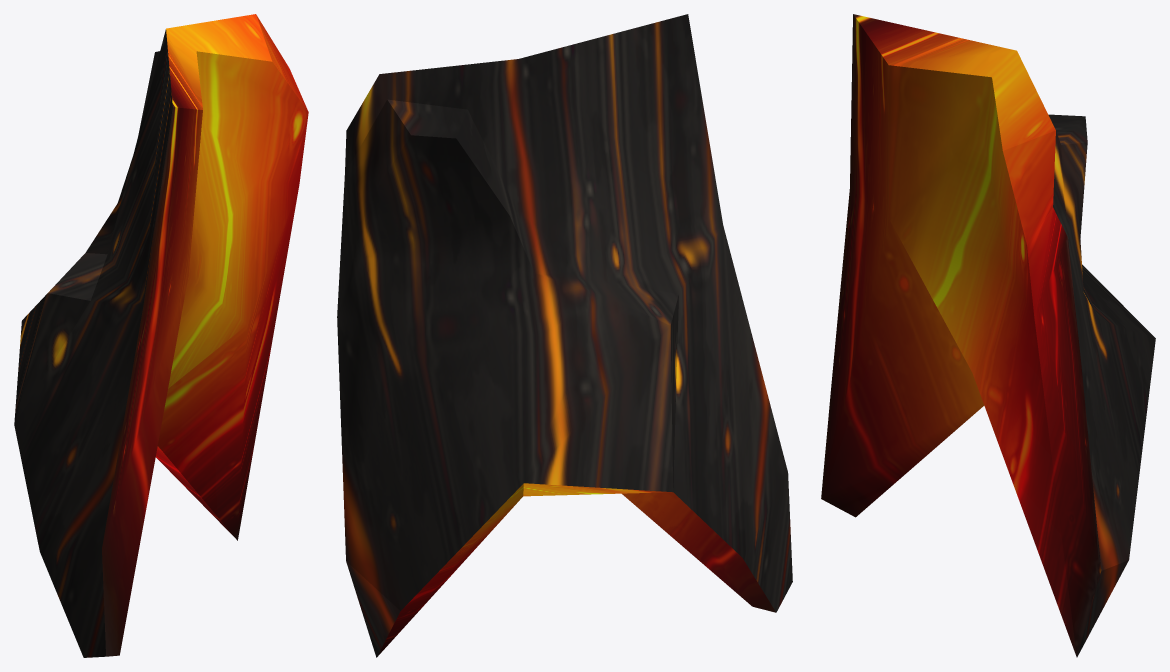
The model's file is p_mesh_hvs_burntforest_rootbase03.fbx.
3 renders of one model, left to right at view 1: azimuth 30°, elevation 25°; view 2: azimuth 150°, elevation 25°; view 3: azimuth 270°, elevation 25°, orthographic. The views are drawn at different scales.
Visible parts, largest first — view 1: p_mesh_hvs_burntforest_rootbase03; view 2: p_mesh_hvs_burntforest_rootbase03; view 3: p_mesh_hvs_burntforest_rootbase03.
Part boxes in pixels (<box>): p_mesh_hvs_burntforest_rootbase03: <box>14,14,308,657</box>; p_mesh_hvs_burntforest_rootbase03: <box>337,14,792,657</box>; p_mesh_hvs_burntforest_rootbase03: <box>821,14,1155,657</box>.
Bounding box in the file's own units: 2.7 × 4.58 × 2.49.
